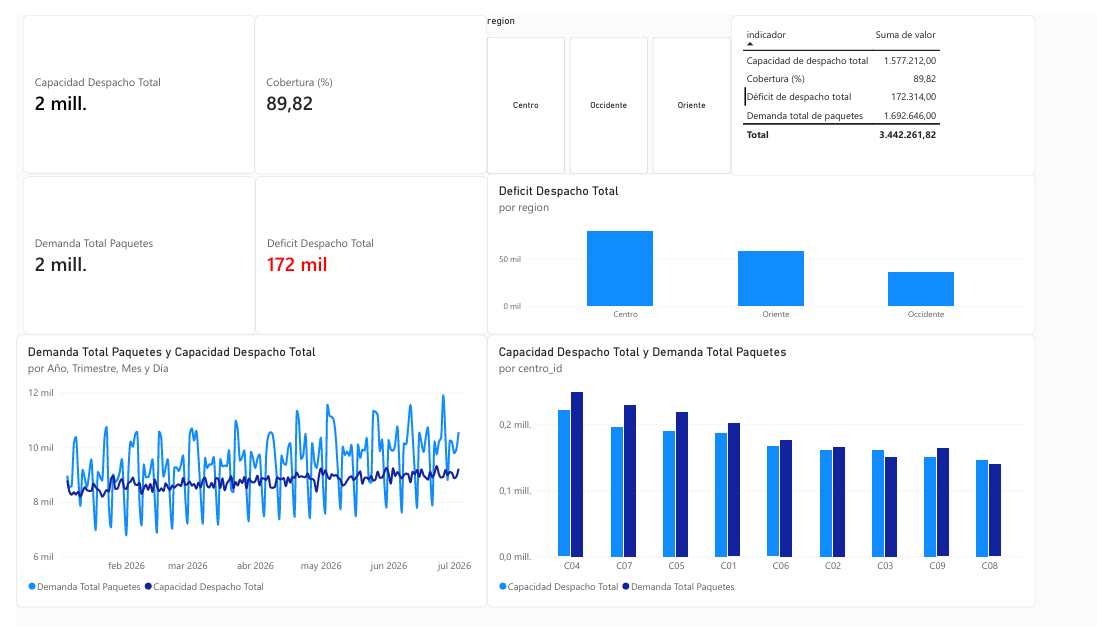

Layout of this report page (visuals, bound fields, positions):
{"tool":"powerbi","page":{"name":"Página 1","canvas":[1920,1080],"ordinal":0},"visuals":[{"type":"cardVisual","fields":{"Data":["fact_operacion_centros.Capacidad Despacho Total"]},"box":[9.9,0,341.7,233.1],"z":0},{"type":"cardVisual","fields":{"Data":["fact_operacion_centros.Cobertura (%)"]},"box":[351,0,341.7,234.8],"z":1},{"type":"cardVisual","fields":{"Data":["fact_operacion_centros.Demanda Total Paquetes"]},"box":[10,258.5,342,233],"z":2},{"type":"cardVisual","fields":{"Data":["fact_operacion_centros.Deficit Despacho Total"]},"box":[351,258,342,233],"z":3},{"type":"advancedSlicerVisual","fields":{"Values":["dim_centros.region"]},"box":[703,0,342,235],"z":4},{"type":"lineChart","fields":{"Category":["dim_tiempo.Date.Variación.Jerarquía de fechas.Año","dim_tiempo.Date.Variación.Jerarquía de fechas.Trimestre","dim_tiempo.Date.Variación.Jerarquía de fechas.Mes","dim_tiempo.Date.Variación.Jerarquía de fechas.Día"],"Y":["fact_operacion_centros.Demanda Total Paquetes","fact_operacion_centros.Capacidad Despacho Total"]},"box":[0,491.7,693.3,380],"z":5},{"type":"clusteredColumnChart","fields":{"Category":["dim_centros.region"],"Y":["fact_operacion_centros.Deficit Despacho Total"]},"box":[704,234,572,258],"z":6},{"type":"clusteredColumnChart","fields":{"Category":["dim_centros.centro_id"],"Y":["fact_operacion_centros.Capacidad Despacho Total","fact_operacion_centros.Demanda Total Paquetes"]},"box":[704,492,572,380],"z":7},{"type":"tableEx","fields":{"Values":["indicadores_tabla.indicador","Sum(indicadores_tabla.valor)"]},"box":[1256,0,448,236],"z":8}]}

Visuals, with their boxes in screenshot pixels (x1, y1, x2, y2), scaled from the page's 1920x1080 canvas onto the 1097x627 screenshot:
cardVisual - fact_operacion_centros.Capacidad Despacho Total: [6,0,201,135]
cardVisual - fact_operacion_centros.Cobertura (%): [201,0,396,136]
cardVisual - fact_operacion_centros.Demanda Total Paquetes: [6,150,201,285]
cardVisual - fact_operacion_centros.Deficit Despacho Total: [201,150,396,285]
advancedSlicerVisual - dim_centros.region: [402,0,597,136]
lineChart - dim_tiempo.Date.Variación.Jerarquía de fechas.Año x dim_tiempo.Date.Variación.Jerarquía de fechas.Trimestre: [0,285,396,506]
clusteredColumnChart - dim_centros.region x fact_operacion_centros.Deficit Despacho Total: [402,136,729,286]
clusteredColumnChart - dim_centros.centro_id x fact_operacion_centros.Capacidad Despacho Total: [402,286,729,506]
tableEx - indicadores_tabla.indicador x Sum(indicadores_tabla.valor): [718,0,974,137]
